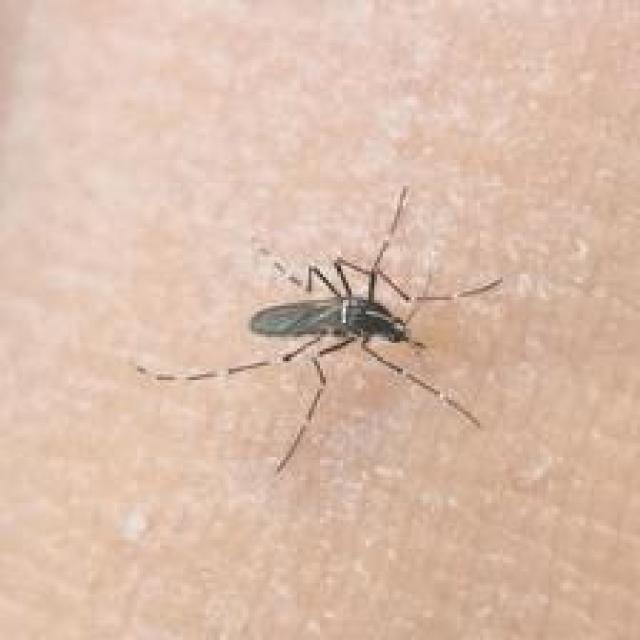Aedes albopictus: (133, 184, 504, 476)
